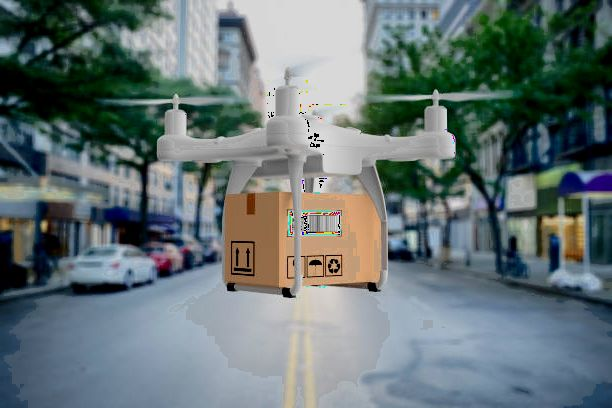Drone: (85, 51, 522, 190)
